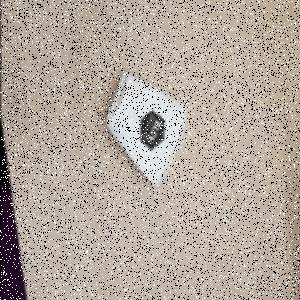Cup: (106, 72, 188, 190)
